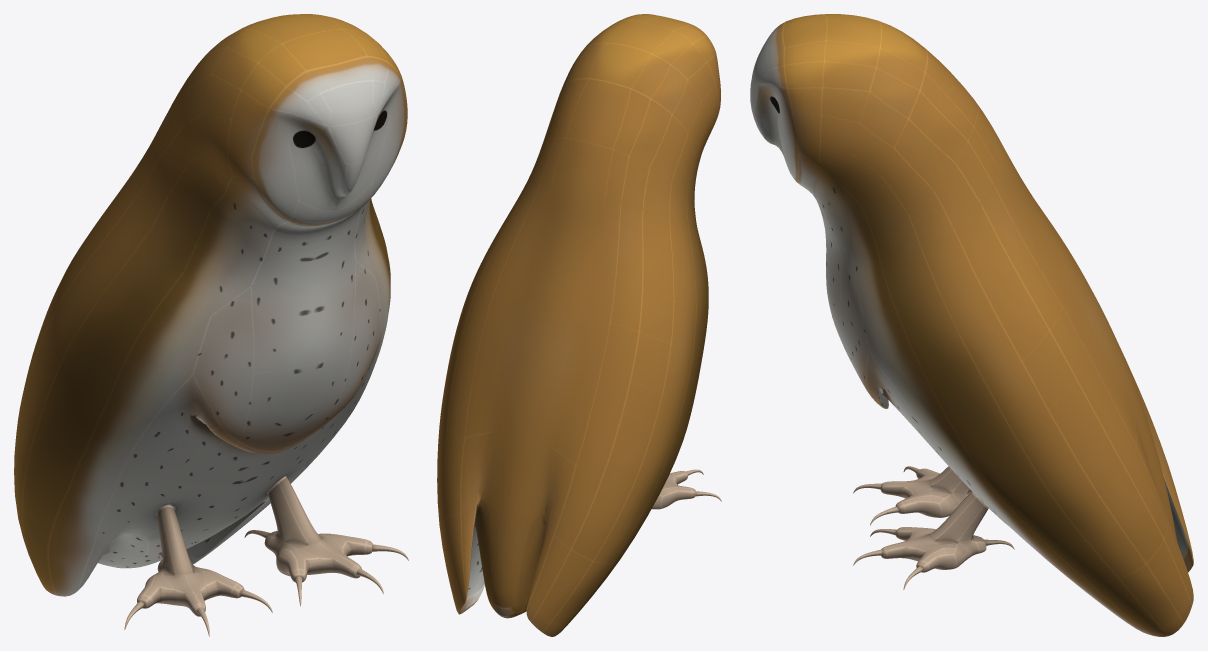
Rendered from BarnOwl.obj.
The picture shows the model from 3 angles, left to right: view 1: azimuth 30°, elevation 25°; view 2: azimuth 150°, elevation 25°; view 3: azimuth 270°, elevation 25°; orthographic projection. The views are drawn at different scales.
Visible parts, largest first — view 1: Default; view 2: Default; view 3: Default.
Boxes of the visible parts, left/top/right/bottom form: Default: left=14, top=14, right=408, bottom=636; Default: left=437, top=14, right=721, bottom=636; Default: left=750, top=14, right=1193, bottom=636.
Size of the model in its own units: 0.2502 by 0.5335 by 0.3671.
1 material, 1 textured.
